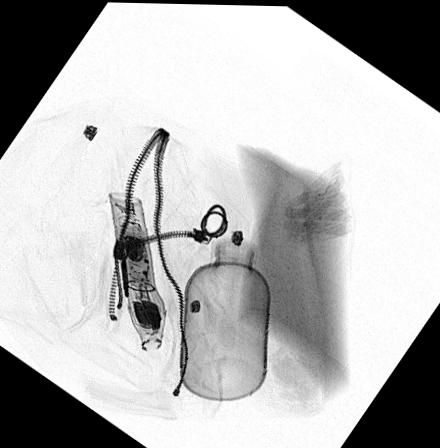Baton: (106, 188, 166, 351)
